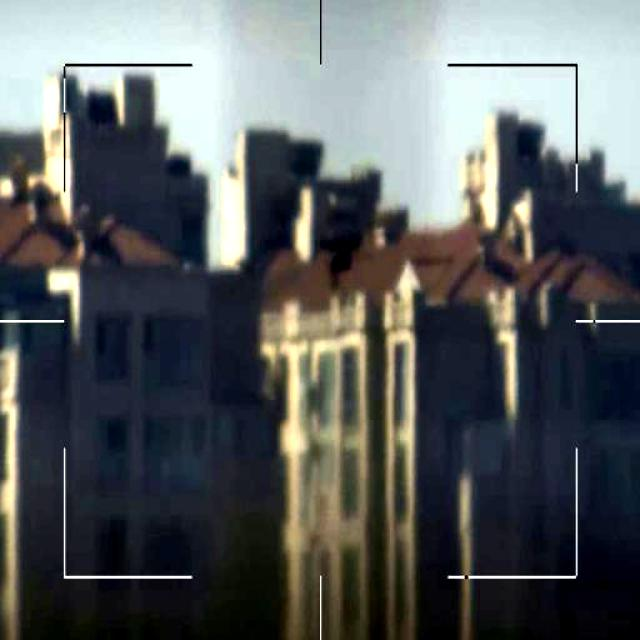bird: (314, 215, 366, 288)
